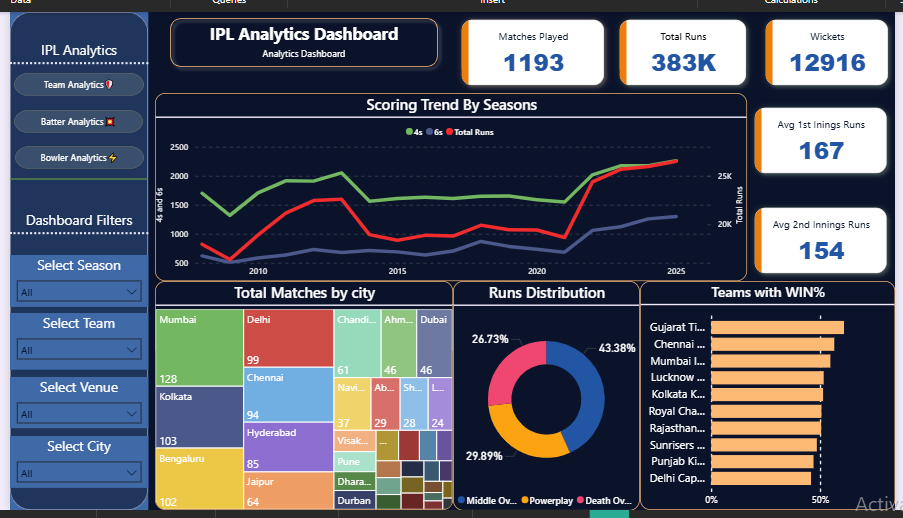

What the dashboard file says about the page in this screenshot:
{"tool":"powerbi","page":{"name":"Executive Overview","canvas":[1280,720],"ordinal":0},"visuals":[{"type":"cardVisual","fields":{"Data":["Dax.Avg 2nd Innings Runs"]},"box":[1065.5,271.8,214,117.1],"z":0},{"type":"shape","box":[222.7,0,404.8,88.2],"z":1000},{"type":"textbox","title":"IPL Analytics Dashboard","box":[235.7,14.5,378.8,60.7],"z":2000},{"type":"shape","box":[0,0,199.5,720],"z":3000},{"type":"slicer","title":"Select Season","fields":{"Values":["fact_ipl.season"]},"box":[0,351.3,199.5,75],"z":4000},{"type":"slicer","title":"Select Venue","fields":{"Values":["dim_venue.venue"]},"box":[0,527.7,199.5,73.7],"z":5000},{"type":"slicer","title":"Select Team","fields":{"Values":["dim_team.team_name"]},"box":[0,435.2,199.5,82.4],"z":6000},{"type":"slicer","title":"Select City","fields":{"Values":["dim_venue.city"]},"box":[0,613,199.5,75.2],"z":7000},{"type":"cardVisual","fields":{"Data":["Dax.Total Matches Played"]},"box":[641.9,0,228.4,117.1],"z":8000},{"type":"cardVisual","fields":{"Data":["Dax.Total Runs"]},"box":[870.4,0,205,117.1],"z":9000},{"type":"cardVisual","fields":{"Data":["Dax.Wickets"]},"box":[1081.4,0,199,117.1],"z":10000},{"type":"lineChart","title":"Scoring Trend By Seasons","fields":{"Category":["fact_ipl.season"],"Y":["Dax_Batter.4s","Dax_Batter.6s"],"Y2":["Dax.Total Runs"]},"box":[209.6,117.1,855.9,271.8],"z":11000},{"type":"treemap","fields":{"Group":["dim_venue.city"],"Values":["Dax.Total Matches"]},"box":[209.6,388.9,430.8,331.1],"z":12000},{"type":"donutChart","title":"Runs Distribution","fields":{"Category":["fact_ipl.innings_phase"],"Y":["Dax.Total Runs"]},"box":[640.8,389,269.9,331.7],"z":13000},{"type":"clusteredBarChart","title":"Teams with WIN%","fields":{"Category":["dim_team.team_name"],"Y":["Dax.Win Percentage"]},"box":[911,389,369,331],"z":14000},{"type":"cardVisual","fields":{"Data":["Dax.Avg 1st Inings Runs"]},"box":[1065.5,127.2,214,117.1],"z":15000},{"type":"textbox","title":"IPL Analytics","box":[0,40.5,199.5,45],"z":16000},{"type":"actionButton","box":[5.8,88.2,188,33.3],"z":17000},{"type":"textbox","title":"Dashboard Filters","box":[0,286.3,199.5,44.8],"z":18000},{"type":"shape","box":[0,211.1,199.5,60.7],"z":19000},{"type":"actionButton","box":[5.8,141.7,186.5,33.3],"z":20000},{"type":"actionButton","box":[7.2,193.7,186.5,33.3],"z":21000}]}

Visuals, with their boxes on the page's 1280x720 design canvas (x1, y1, x2, y2). These are canvas units, not pixel positions in the 903x518 screenshot, which may show the page scaled, cropped or inside an application window:
cardVisual - Dax.Avg 2nd Innings Runs: region(1066, 272, 1280, 389)
shape: region(223, 0, 628, 88)
"IPL Analytics Dashboard" textbox: region(236, 14, 614, 75)
shape: region(0, 0, 200, 720)
"Select Season" slicer: region(0, 351, 200, 426)
"Select Venue" slicer: region(0, 528, 200, 601)
"Select Team" slicer: region(0, 435, 200, 518)
"Select City" slicer: region(0, 613, 200, 688)
cardVisual - Dax.Total Matches Played: region(642, 0, 870, 117)
cardVisual - Dax.Total Runs: region(870, 0, 1075, 117)
cardVisual - Dax.Wickets: region(1081, 0, 1280, 117)
"Scoring Trend By Seasons" lineChart: region(210, 117, 1066, 389)
treemap - dim_venue.city x Dax.Total Matches: region(210, 389, 640, 720)
"Runs Distribution" donutChart: region(641, 389, 911, 721)
"Teams with WIN%" clusteredBarChart: region(911, 389, 1280, 720)
cardVisual - Dax.Avg 1st Inings Runs: region(1066, 127, 1280, 244)
"IPL Analytics" textbox: region(0, 40, 200, 86)
actionButton: region(6, 88, 194, 122)
"Dashboard Filters" textbox: region(0, 286, 200, 331)
shape: region(0, 211, 200, 272)
actionButton: region(6, 142, 192, 175)
actionButton: region(7, 194, 194, 227)
